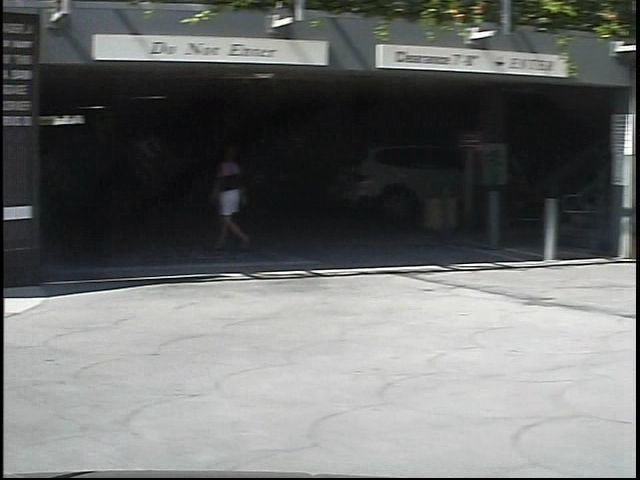person: (193, 141, 245, 260)
